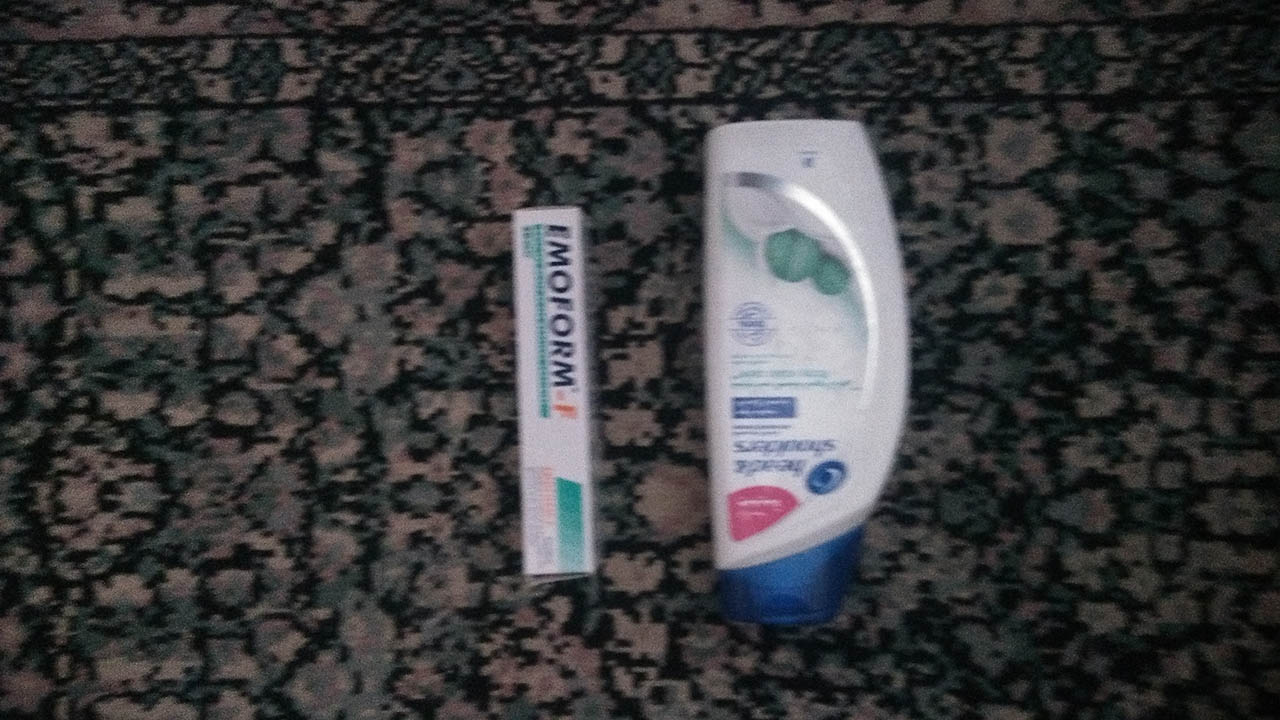Toothpaste-F 1.5$: (499, 202, 618, 594)
shampoo-green 4.5$: (693, 111, 909, 623)
